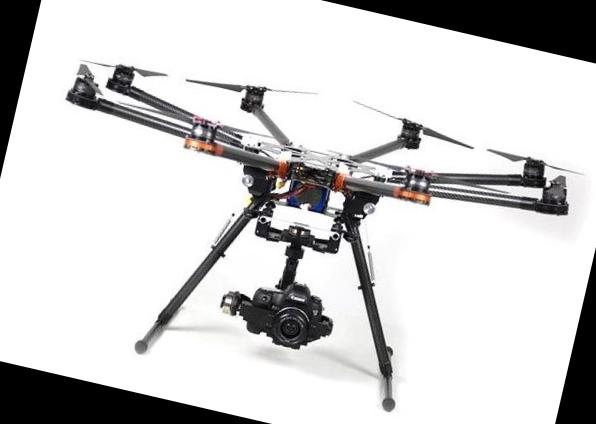drone: (23, 23, 596, 325)
